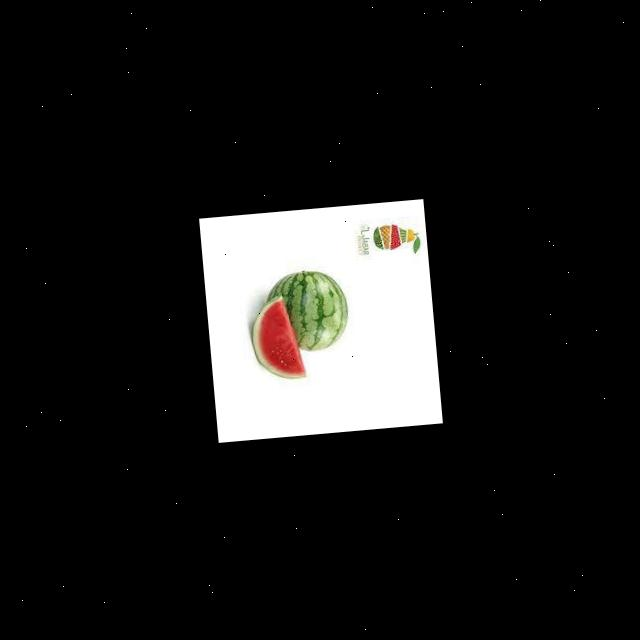watermelon: (262, 266, 350, 354), (246, 293, 306, 382)
